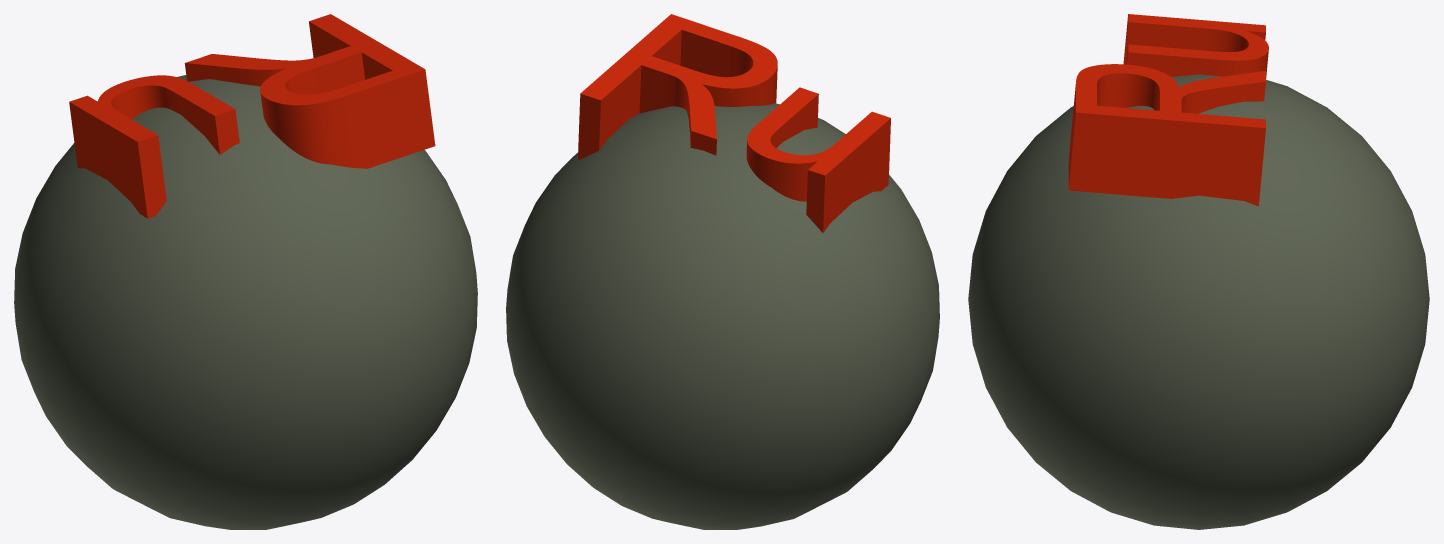
3 views of the same model, side by side, from view 1: azimuth 30°, elevation 25°; view 2: azimuth 150°, elevation 25°; view 3: azimuth 270°, elevation 25° (orthographic). The views are drawn at different scales.
Parts seen in each view (by area): view 1: Ru; view 2: Ru; view 3: Ru.
Part boxes in pixels (<box>): Ru: <box>14,14,477,529</box>; Ru: <box>506,14,939,529</box>; Ru: <box>968,14,1429,529</box>.
Bounding box in the file's own units: 38.67 × 41.9 × 38.75.
